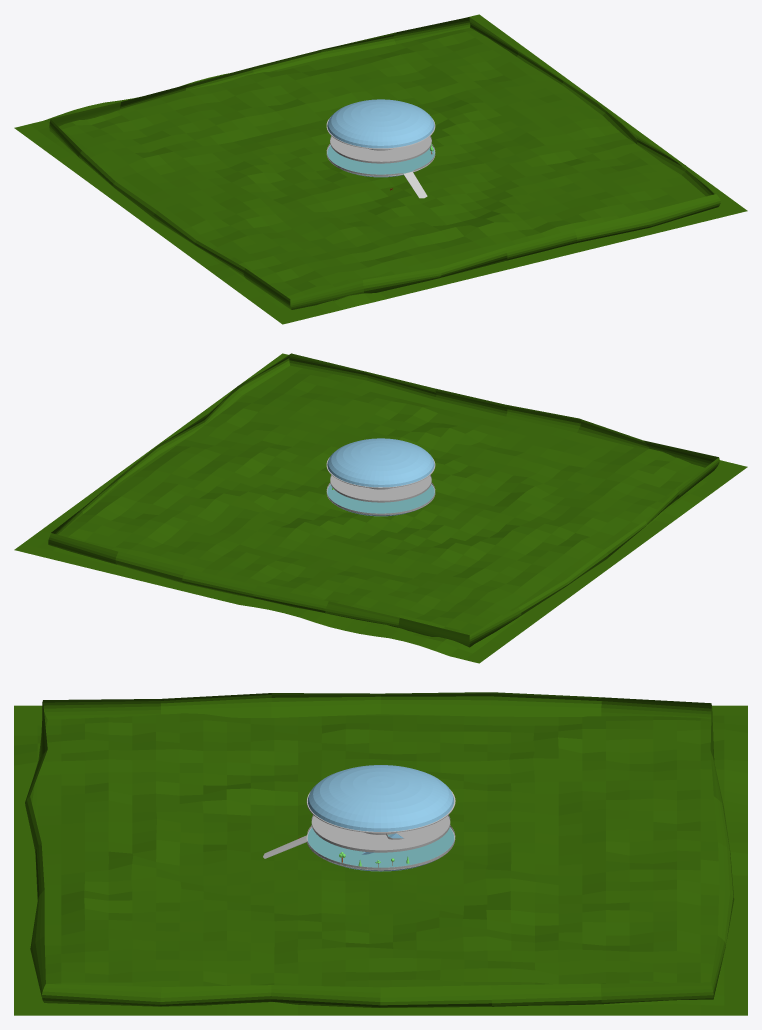
File: detailed-glass-house8.glb
The picture shows the model from 3 angles, top to bottom: view 1: azimuth 30°, elevation 25°; view 2: azimuth 150°, elevation 25°; view 3: azimuth 270°, elevation 25°; orthographic projection. The views are drawn at different scales.
Parts seen in each view (by area): view 1: ground, Plane, dome, floor2nd, floor; view 2: ground, Plane, dome, floor2nd, floor; view 3: ground, Plane, dome, floor2nd, floor.
Part boxes in pixels (x1=…): ground: x1=14, y1=14, x2=747, y2=324; Plane: x1=49, y1=17, x2=720, y2=309; dome: x1=327, y1=99, x2=434, y2=148; floor2nd: x1=330, y1=136, x2=431, y2=163; floor: x1=327, y1=145, x2=434, y2=174; ground: x1=14, y1=353, x2=747, y2=663; Plane: x1=48, y1=353, x2=719, y2=647; dome: x1=327, y1=438, x2=434, y2=487; floor2nd: x1=330, y1=475, x2=431, y2=502; floor: x1=327, y1=484, x2=434, y2=513; ground: x1=14, y1=705, x2=747, y2=1015; Plane: x1=25, y1=692, x2=734, y2=1007; dome: x1=308, y1=765, x2=453, y2=831; floor2nd: x1=311, y1=815, x2=450, y2=852; floor: x1=307, y1=828, x2=454, y2=867.
Bounding box in the file's own units: 600 × 71.18 × 600.
